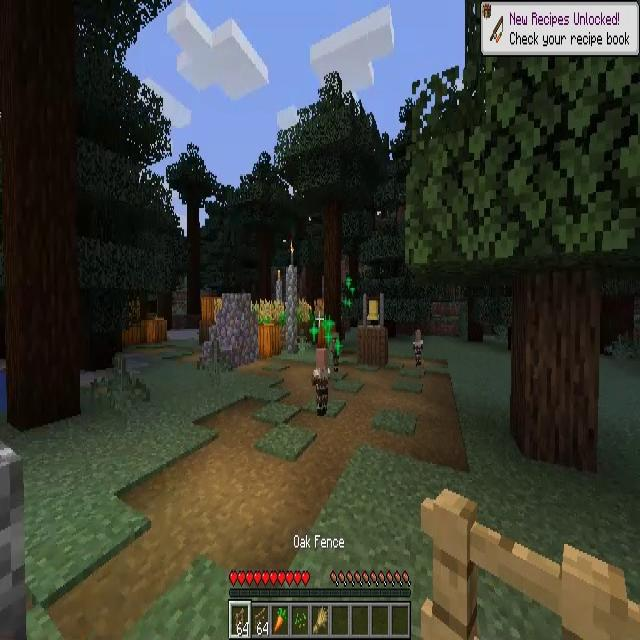people: (310, 348, 331, 417), (412, 330, 424, 370)
